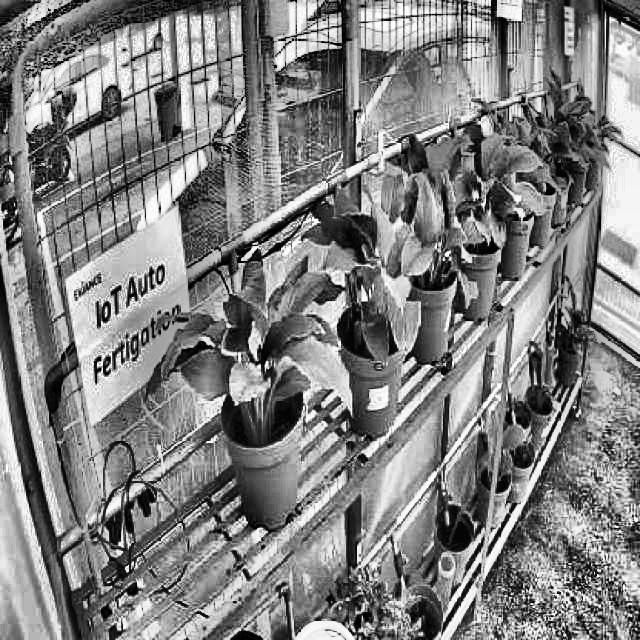plants: (148, 250, 352, 444), (306, 181, 419, 364), (374, 128, 478, 322), (437, 117, 545, 246)
